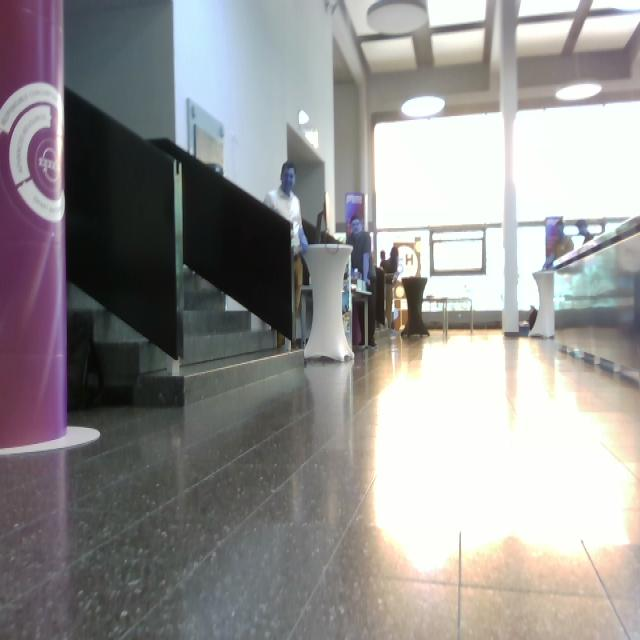door: (146, 136, 284, 366)
light bulb: (366, 1, 429, 37), (401, 96, 446, 118), (555, 82, 603, 101), (298, 109, 310, 125), (395, 287, 405, 299)
person: (263, 161, 310, 352), (346, 214, 378, 349)
pillar: (1, 1, 69, 449), (497, 1, 522, 336)
table: (299, 241, 358, 369)
tiled floor: (1, 323, 639, 639)
